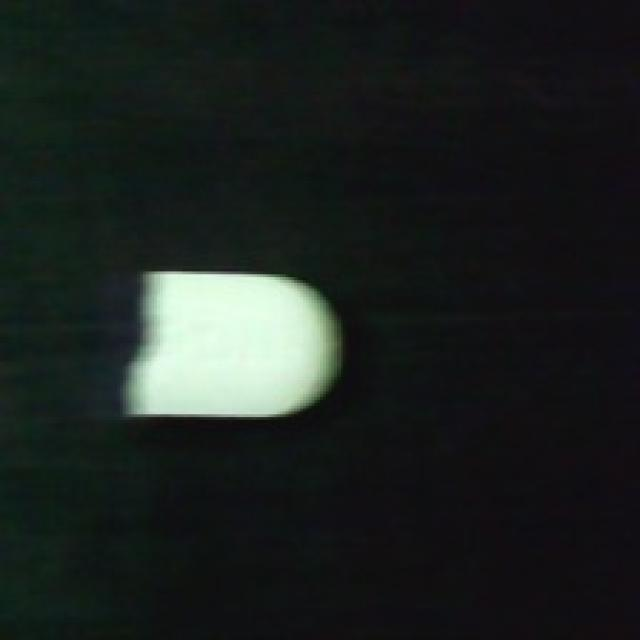defected: (117, 266, 346, 420)
